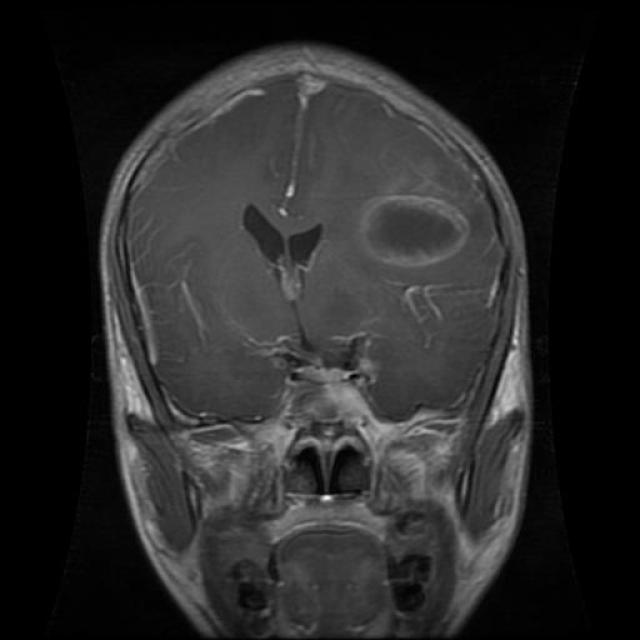glioma: (362, 196, 473, 270)
